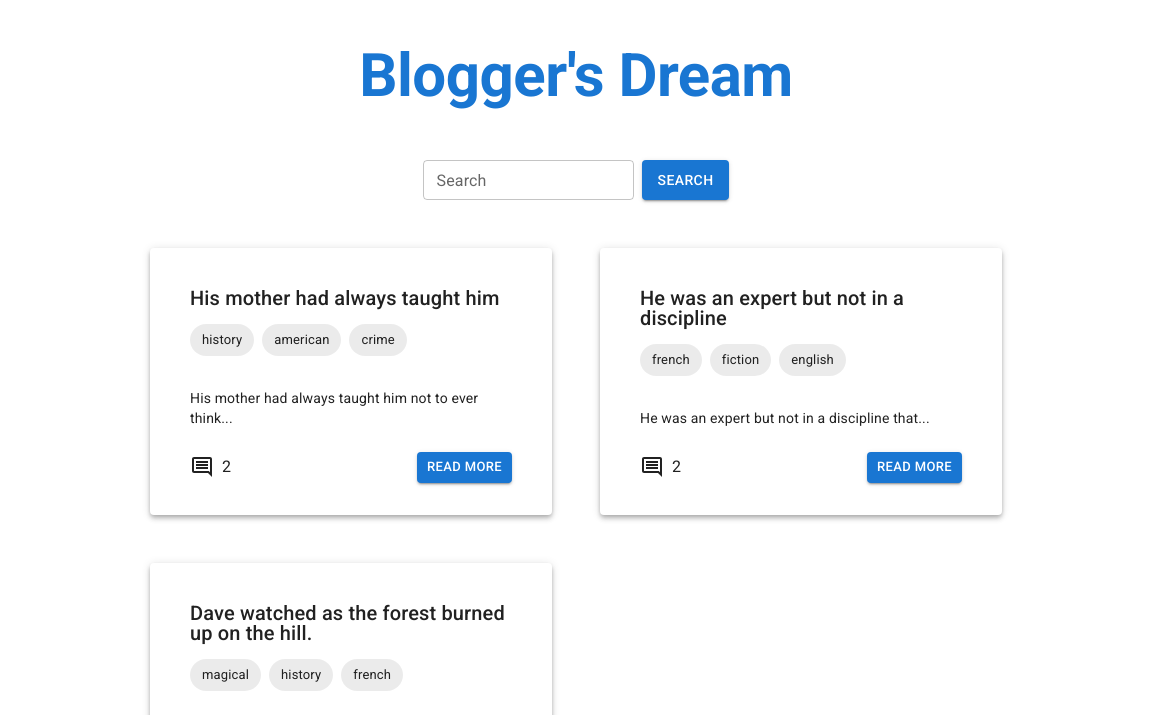
navigates between PostsPage and PostDetailsPage
This screenshot has width=1152, height=715.
Click the link "Read more" below "american".
click(464, 467)  # box [417,452,512,483]
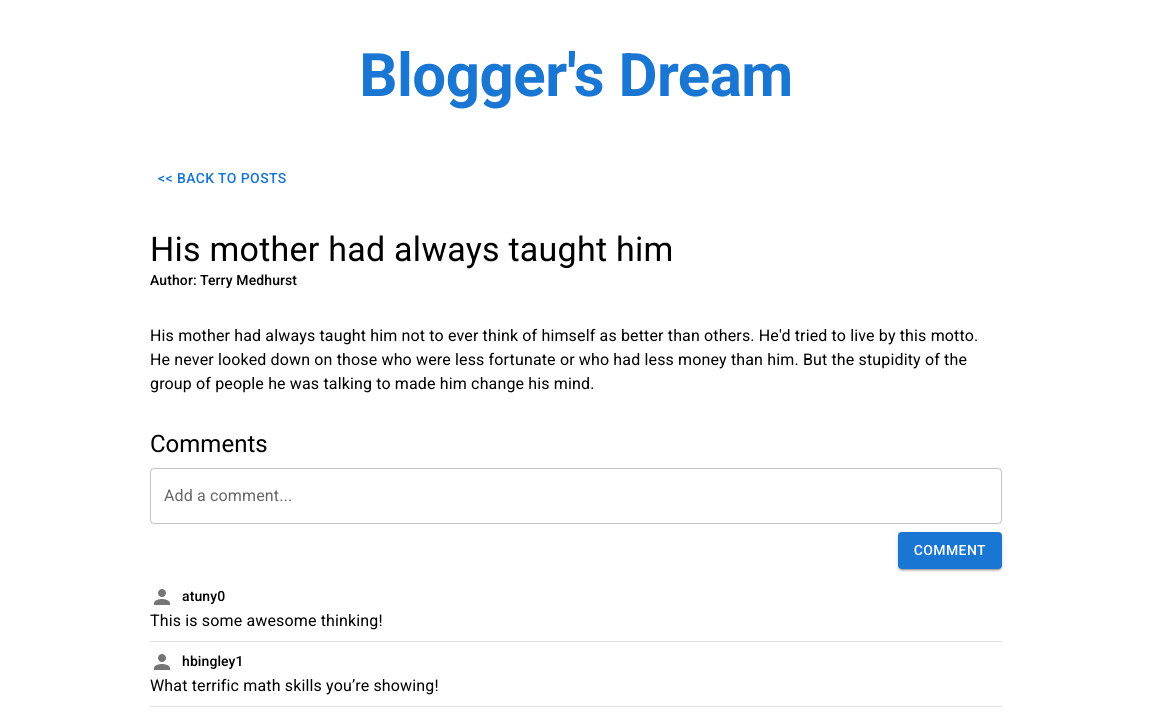
Result: the text "His mother had always taught him not to ever think of himself as better than others. He'd tried to live by this motto. H" is shown at [150,326,978,394]
Result: no elements with test id "post-card" are shown
Click the button "<< Back to posts".
click(222, 178)  # box [150,160,295,196]
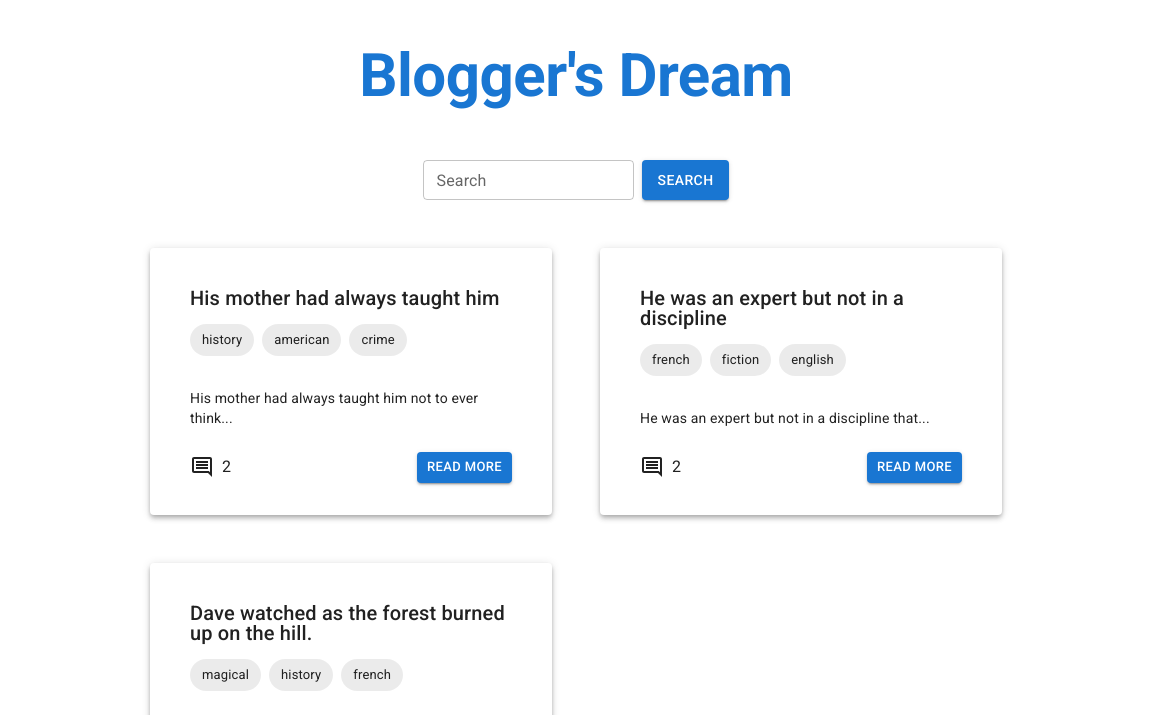
Result: the text "His mother had always taught him not to ever think of himself as better than others. He'd tried to live by this motto. H" is gone
